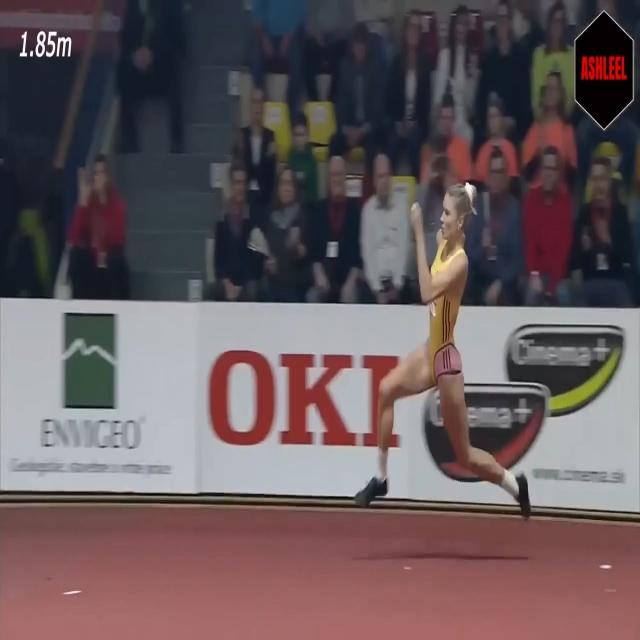run: (355, 184, 531, 515)
